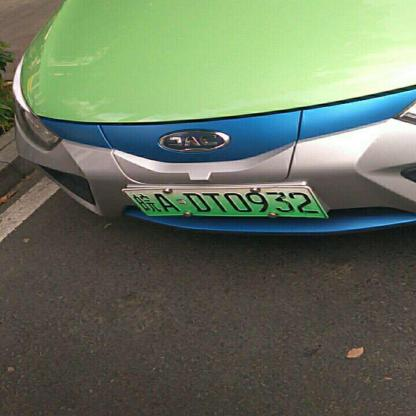lp: (122, 187, 325, 217)
